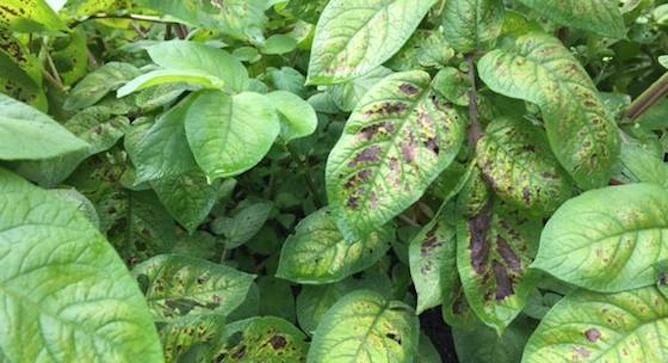Potato leaf late blight: (474, 28, 619, 196), (325, 67, 457, 242), (453, 171, 541, 331), (473, 113, 580, 222), (122, 256, 253, 324), (208, 316, 307, 363)
